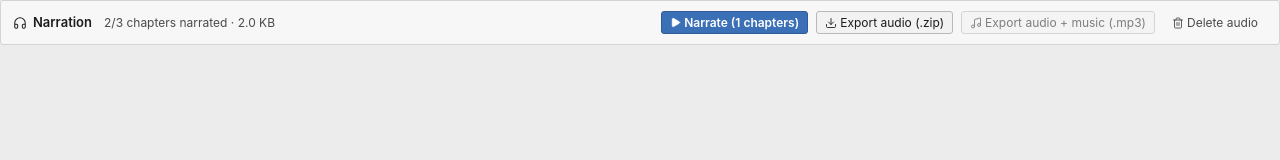
NarrationPanel delete audio › shows the error when deletion fails
Click the button "Delete audio".
click(1215, 23)  # box x1=1163 y1=11 x2=1267 y2=34
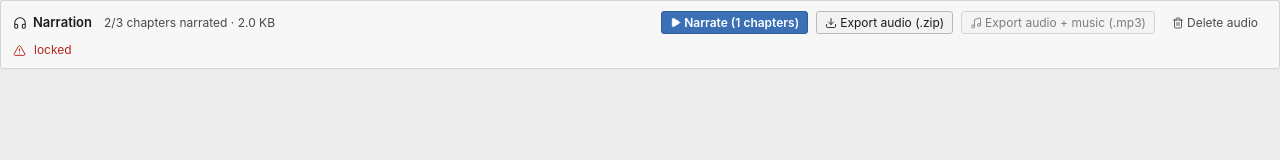
Check: the message reads "locked", box x1=34 y1=42 x2=72 y2=57
